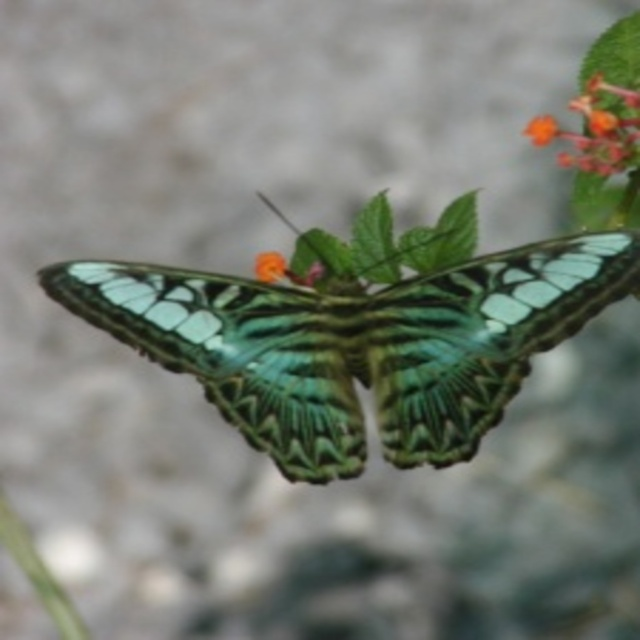Butterfly: (37, 194, 631, 482)
